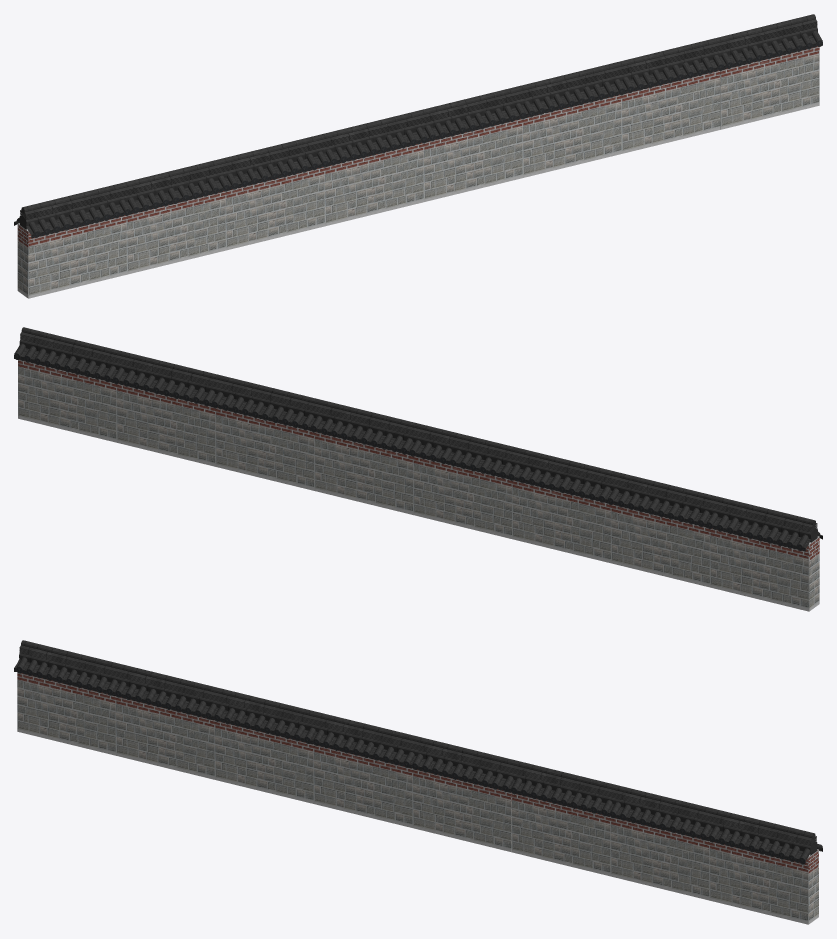
File: SM_DG_HG_StoneWallH_Splines_5.fbx
3 renders of one model, top to bottom at view 1: azimuth 30°, elevation 25°; view 2: azimuth 150°, elevation 25°; view 3: azimuth 330°, elevation 25°, orthographic.
Parts seen in each view (by area): view 1: SM_DG_HG_StoneWallH_Splines_5; view 2: SM_DG_HG_StoneWallH_Splines_5; view 3: SM_DG_HG_StoneWallH_Splines_5.
Part boxes in pixels (x1=…): SM_DG_HG_StoneWallH_Splines_5: x1=14, y1=14, x2=822, y2=298; SM_DG_HG_StoneWallH_Splines_5: x1=14, y1=327, x2=822, y2=611; SM_DG_HG_StoneWallH_Splines_5: x1=14, y1=640, x2=822, y2=924.
Bounding box in the file's own units: 1689 × 65.49 × 178.
